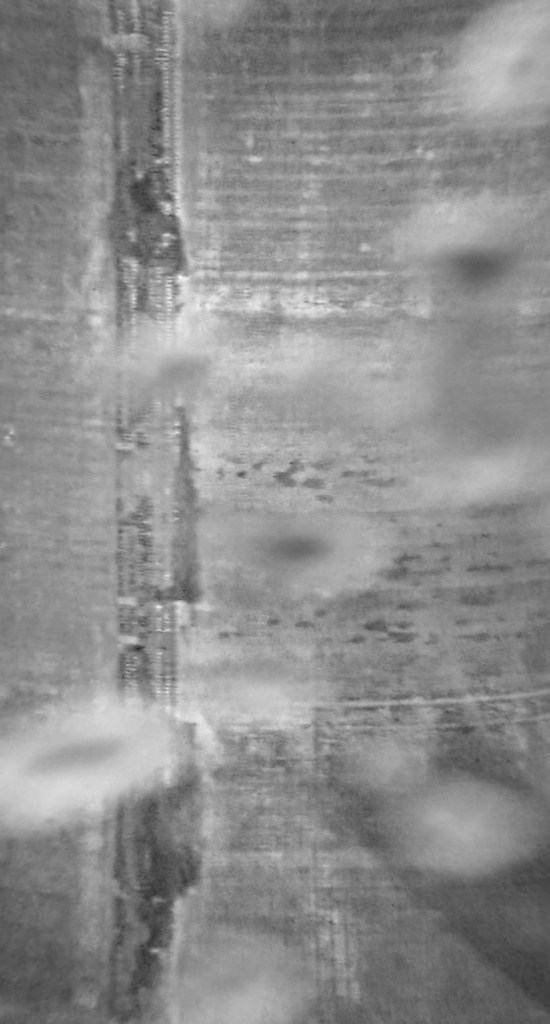splice: (95, 1, 198, 1024)
